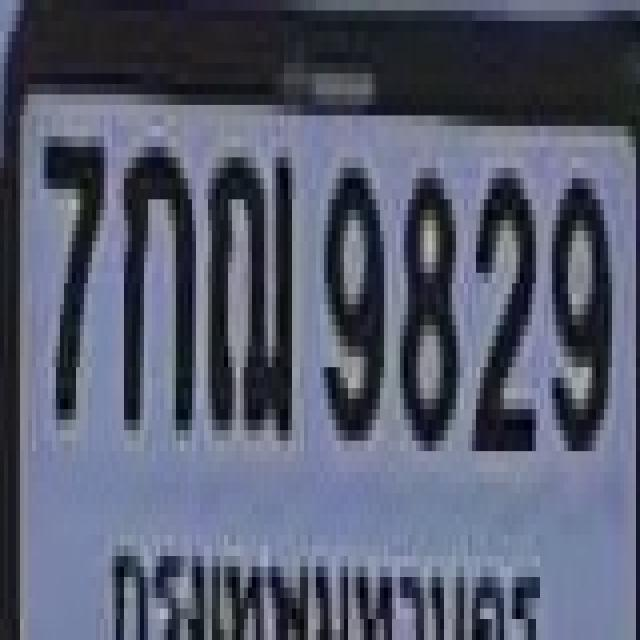-: (204, 137, 288, 430), (120, 136, 192, 420)
2: (468, 157, 532, 441)
7: (40, 126, 100, 409)
8: (396, 157, 452, 441)
9: (320, 157, 380, 430), (548, 168, 608, 441)
BKK: (100, 524, 548, 640)
